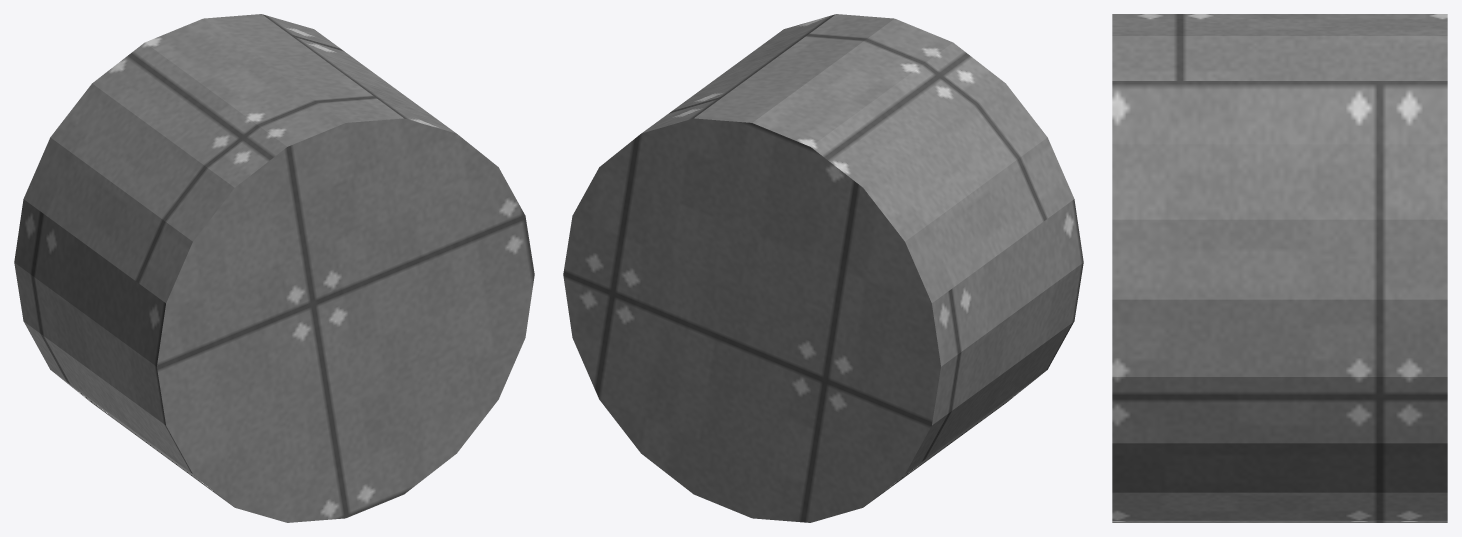
The model's file is attach_1.glb.
The picture shows the model from 3 angles, left to right: view 1: azimuth 30°, elevation 25°; view 2: azimuth 150°, elevation 25°; view 3: azimuth 270°, elevation 25°; orthographic projection. The views are drawn at different scales.
Visible parts, largest first — view 1: attach_1; view 2: attach_1; view 3: attach_1.
Boxes of the visible parts, x1,y1,x2,y2 form: attach_1: (14, 14, 534, 522); attach_1: (563, 14, 1083, 522); attach_1: (1112, 14, 1447, 522).
Bounding box in the file's own units: 0.52 × 0.52 × 0.34.
1 material, 1 textured.
